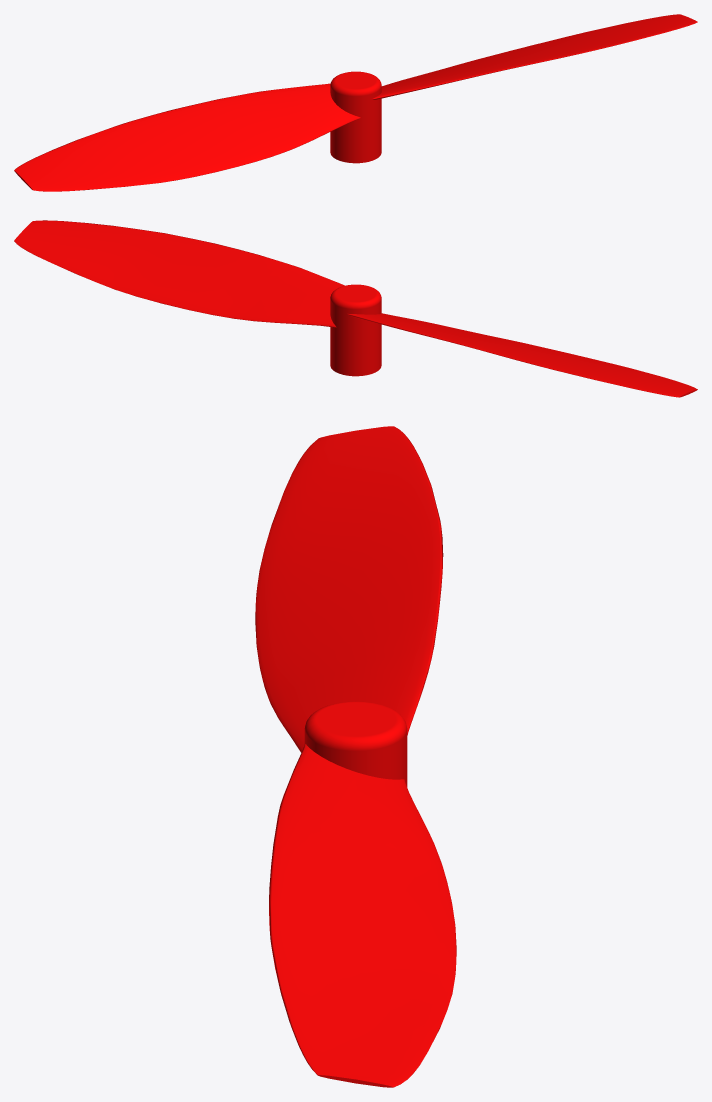
Rendered from Body.fbx.
3 views of the same model, one above another, from view 1: azimuth 30°, elevation 25°; view 2: azimuth 150°, elevation 25°; view 3: azimuth 270°, elevation 25° (orthographic). The views are drawn at different scales.
Parts seen in each view (by area): view 1: Elica; view 2: Elica; view 3: Elica.
Part boxes in pixels (x1,y1,x2,y2): Elica: [14, 14, 697, 191]; Elica: [14, 220, 697, 397]; Elica: [255, 426, 456, 1087].
Size of the model in its own units: 139 by 14.34 by 18.22.
